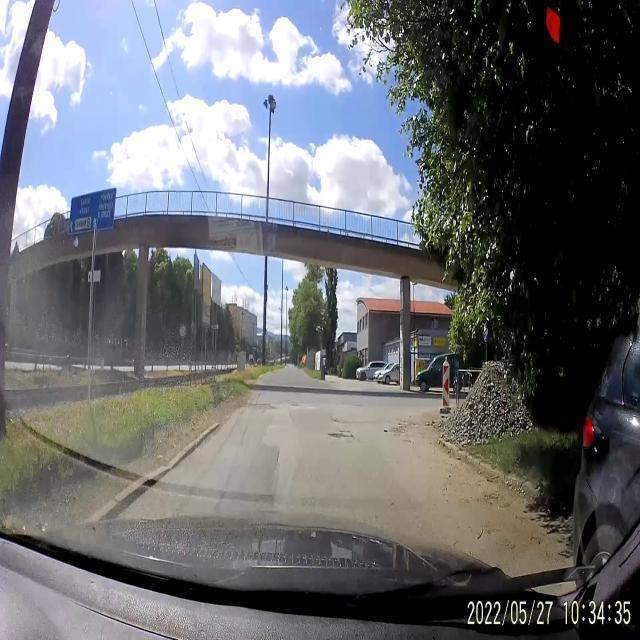Pothole: (243, 401, 278, 415), (382, 420, 410, 437), (327, 428, 354, 444), (328, 412, 342, 427), (290, 400, 300, 410)
